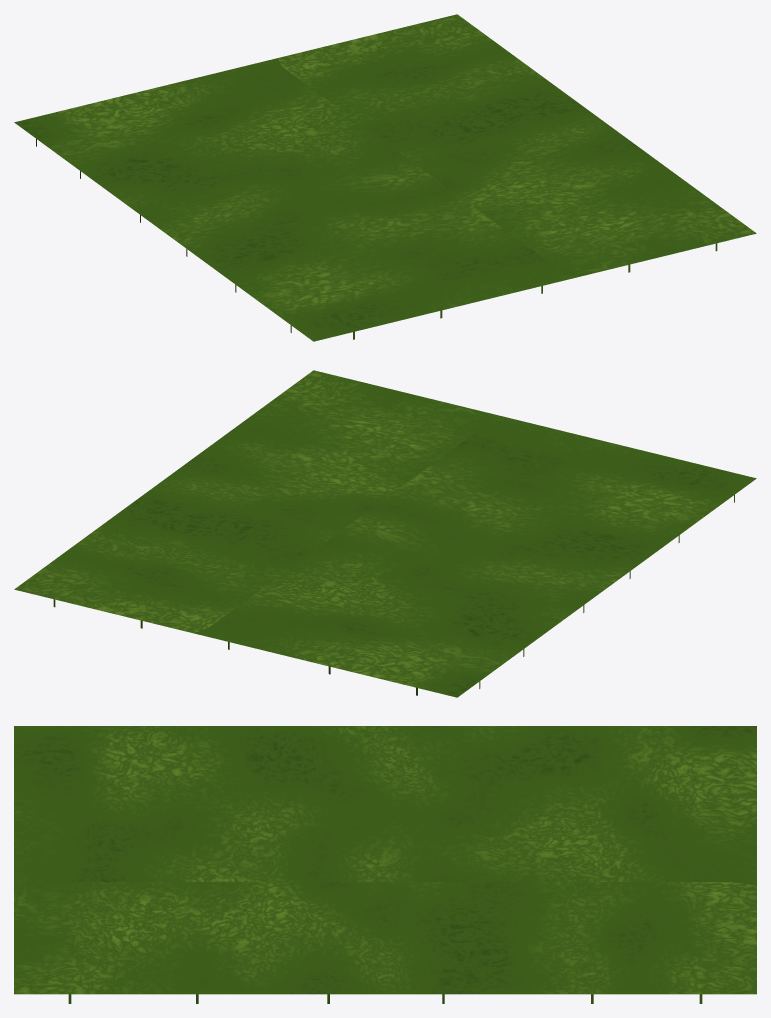
The model's file is buildig.003_moss_0_lev3.glb.
3 renders of one model, top to bottom at view 1: azimuth 30°, elevation 25°; view 2: azimuth 150°, elevation 25°; view 3: azimuth 270°, elevation 25°, orthographic. The views are drawn at different scales.
Visible parts, largest first — view 1: buildig.003_moss_0_lev3; view 2: buildig.003_moss_0_lev3; view 3: buildig.003_moss_0_lev3.
Boxes of the visible parts, x1,y1,x2,y2 form: buildig.003_moss_0_lev3: [14, 14, 756, 341]; buildig.003_moss_0_lev3: [14, 370, 756, 697]; buildig.003_moss_0_lev3: [14, 726, 756, 1003].
Bounding box in the file's own units: 2.99 × 0.05 × 3.51.
1 material, 1 textured.
